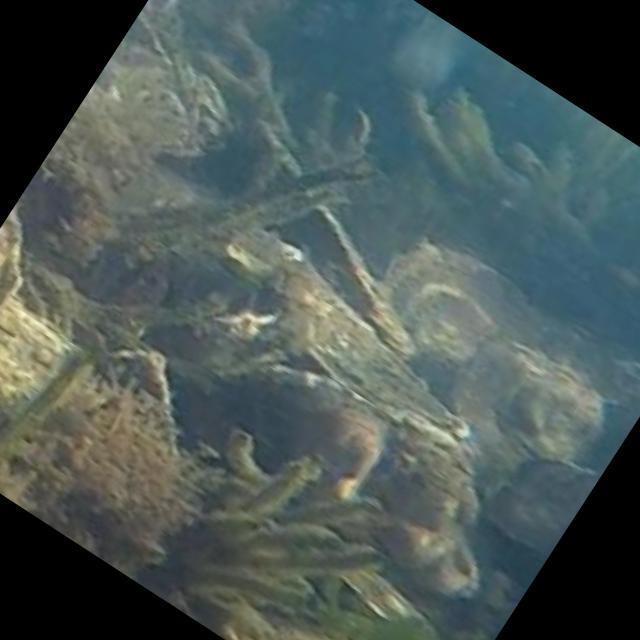Oyster- Indeterminate: (272, 255, 468, 431), (463, 348, 609, 493), (396, 248, 548, 366), (0, 207, 19, 305)
